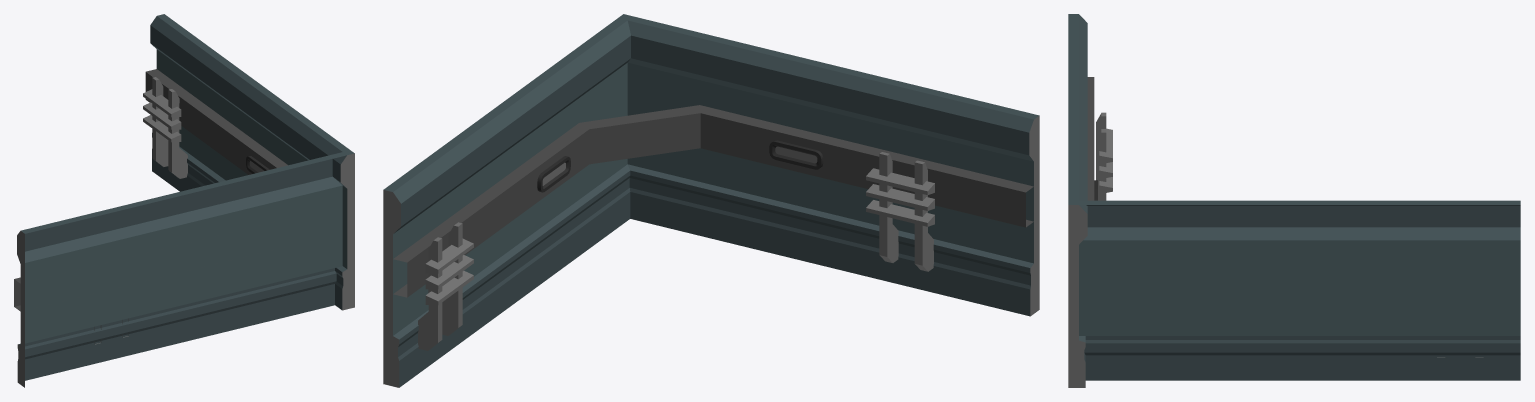
File: SM_wall_front_angle_02.fbx
3 renders of one model, left to right at view 1: azimuth 30°, elevation 25°; view 2: azimuth 150°, elevation 25°; view 3: azimuth 270°, elevation 25°, orthographic. The views are drawn at different scales.
Visible parts, largest first — view 1: SM_wall_front_angle_02; view 2: SM_wall_front_angle_02; view 3: SM_wall_front_angle_02.
Boxes of the visible parts, left/top/right/bottom form: SM_wall_front_angle_02: left=14, top=14, right=354, bottom=387; SM_wall_front_angle_02: left=383, top=14, right=1039, bottom=387; SM_wall_front_angle_02: left=1068, top=14, right=1520, bottom=387.
Size of the model in its own units: 300 by 134 by 300.
2 materials, 2 textured.
